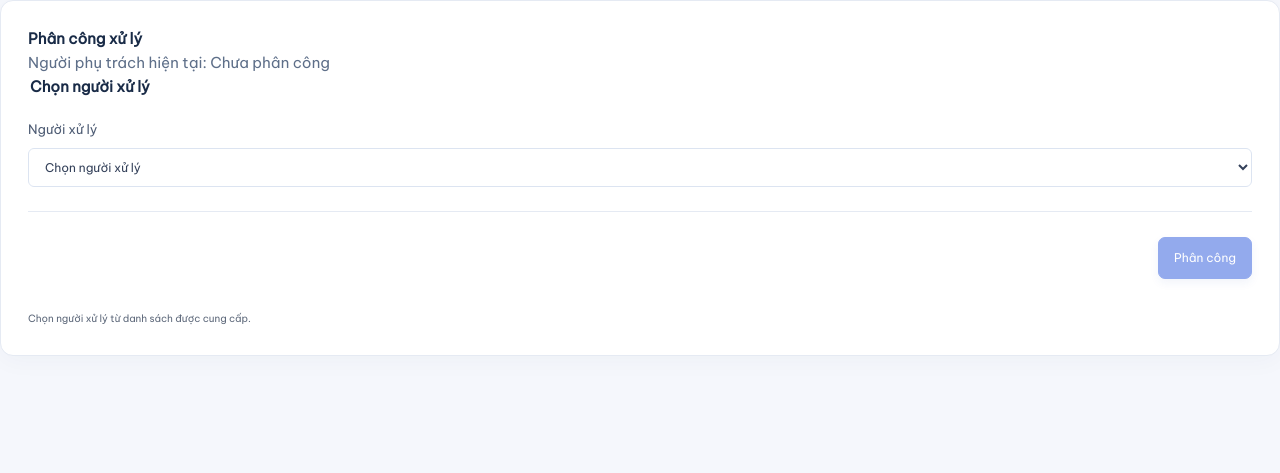
Test: APP-11 assignment selection and single write › does not retry CONFLICT and keeps the write stopped
Later steps or results of the test are not shown.
Select "Nguyễn An" in the dropdown: point(640, 168) [28,148,1252,187]
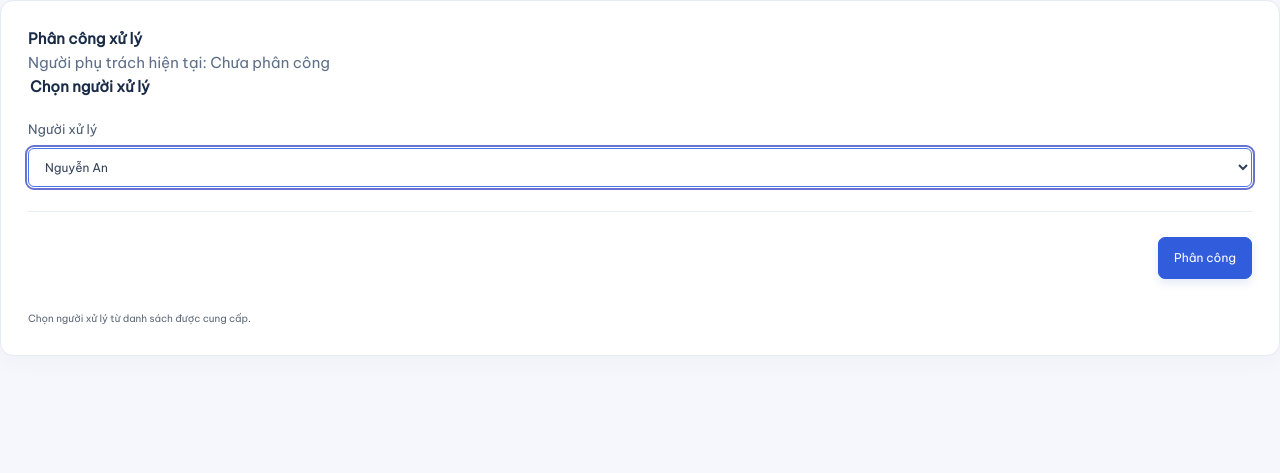
Double-click the button "Phân công": point(1205, 258) [1158,237,1252,279]
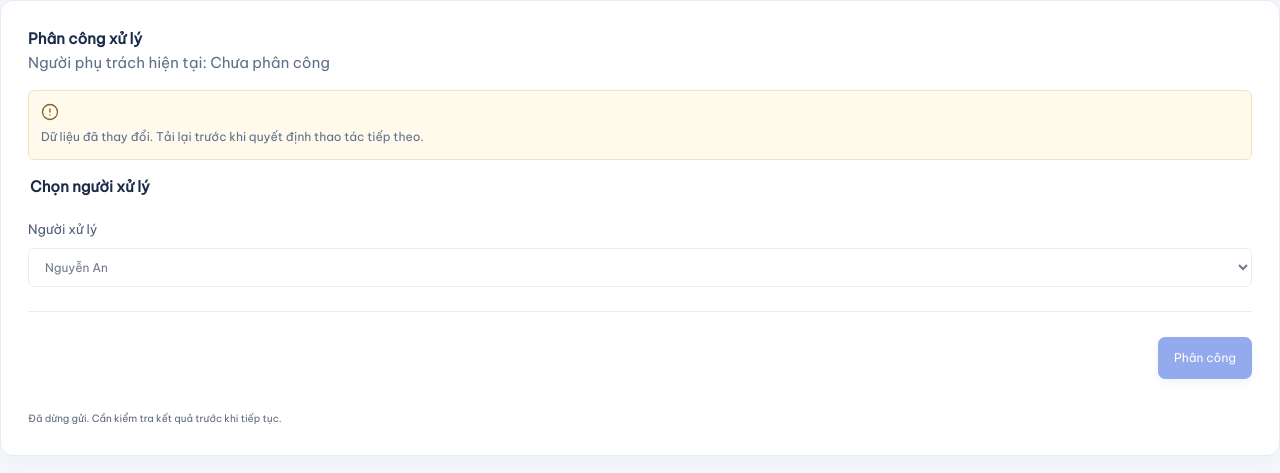
Check: the message "Dữ liệu đã thay đổi. Tải lại trước khi quyết định thao tác tiếp theo." is shown, box [28,90,1252,160]
Check: the button "Phân công" is disabled, box [1158,337,1252,379]
